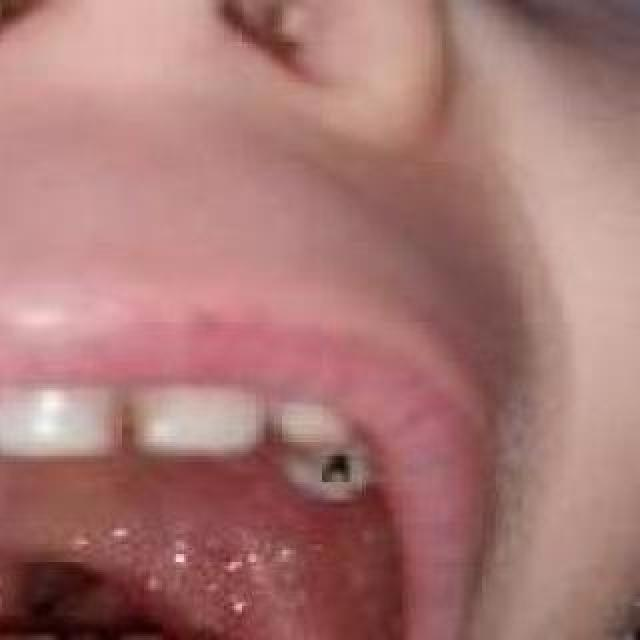spacing: (101, 369, 165, 463), (250, 387, 296, 465)
